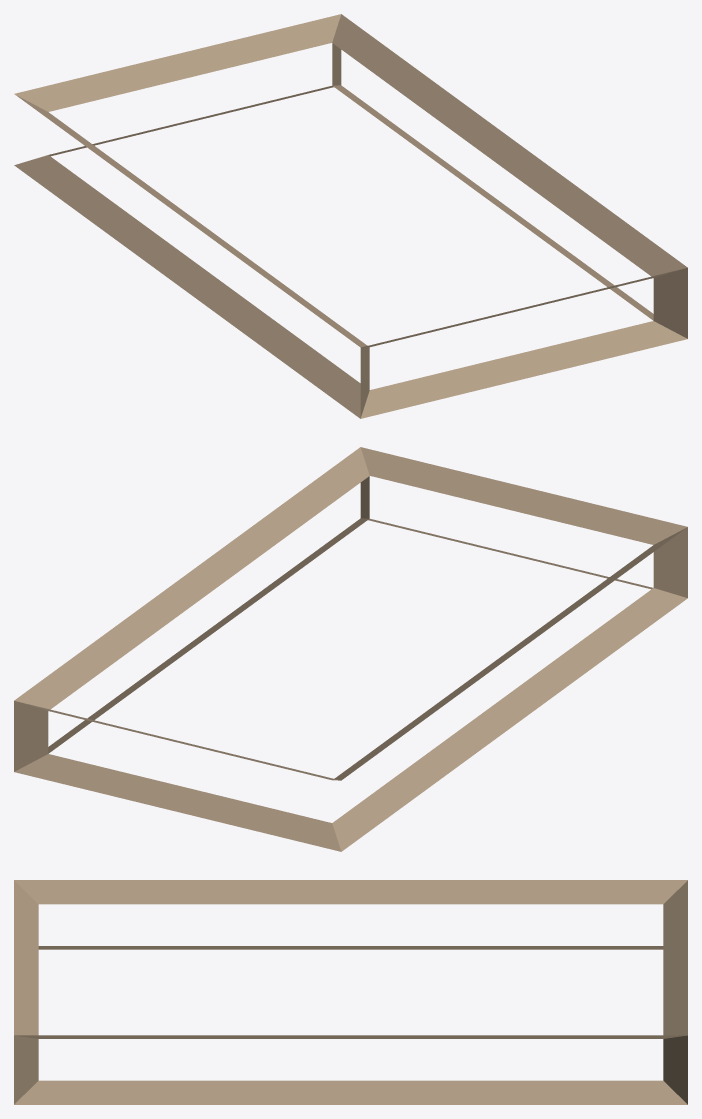
3 views of the same model, one above another, from view 1: azimuth 30°, elevation 25°; view 2: azimuth 150°, elevation 25°; view 3: azimuth 270°, elevation 25° (orthographic). The views are drawn at different scales.
Visible parts, largest first — view 1: door_military_lod0_run001; view 2: door_military_lod0_run001; view 3: door_military_lod0_run001.
Boxes of the visible parts, bbox=[...] form: door_military_lod0_run001: bbox=[14, 14, 687, 418]; door_military_lod0_run001: bbox=[14, 447, 687, 851]; door_military_lod0_run001: bbox=[14, 880, 687, 1104].
Bounding box in the file's own units: 1.2 × 0.25 × 2.2.
